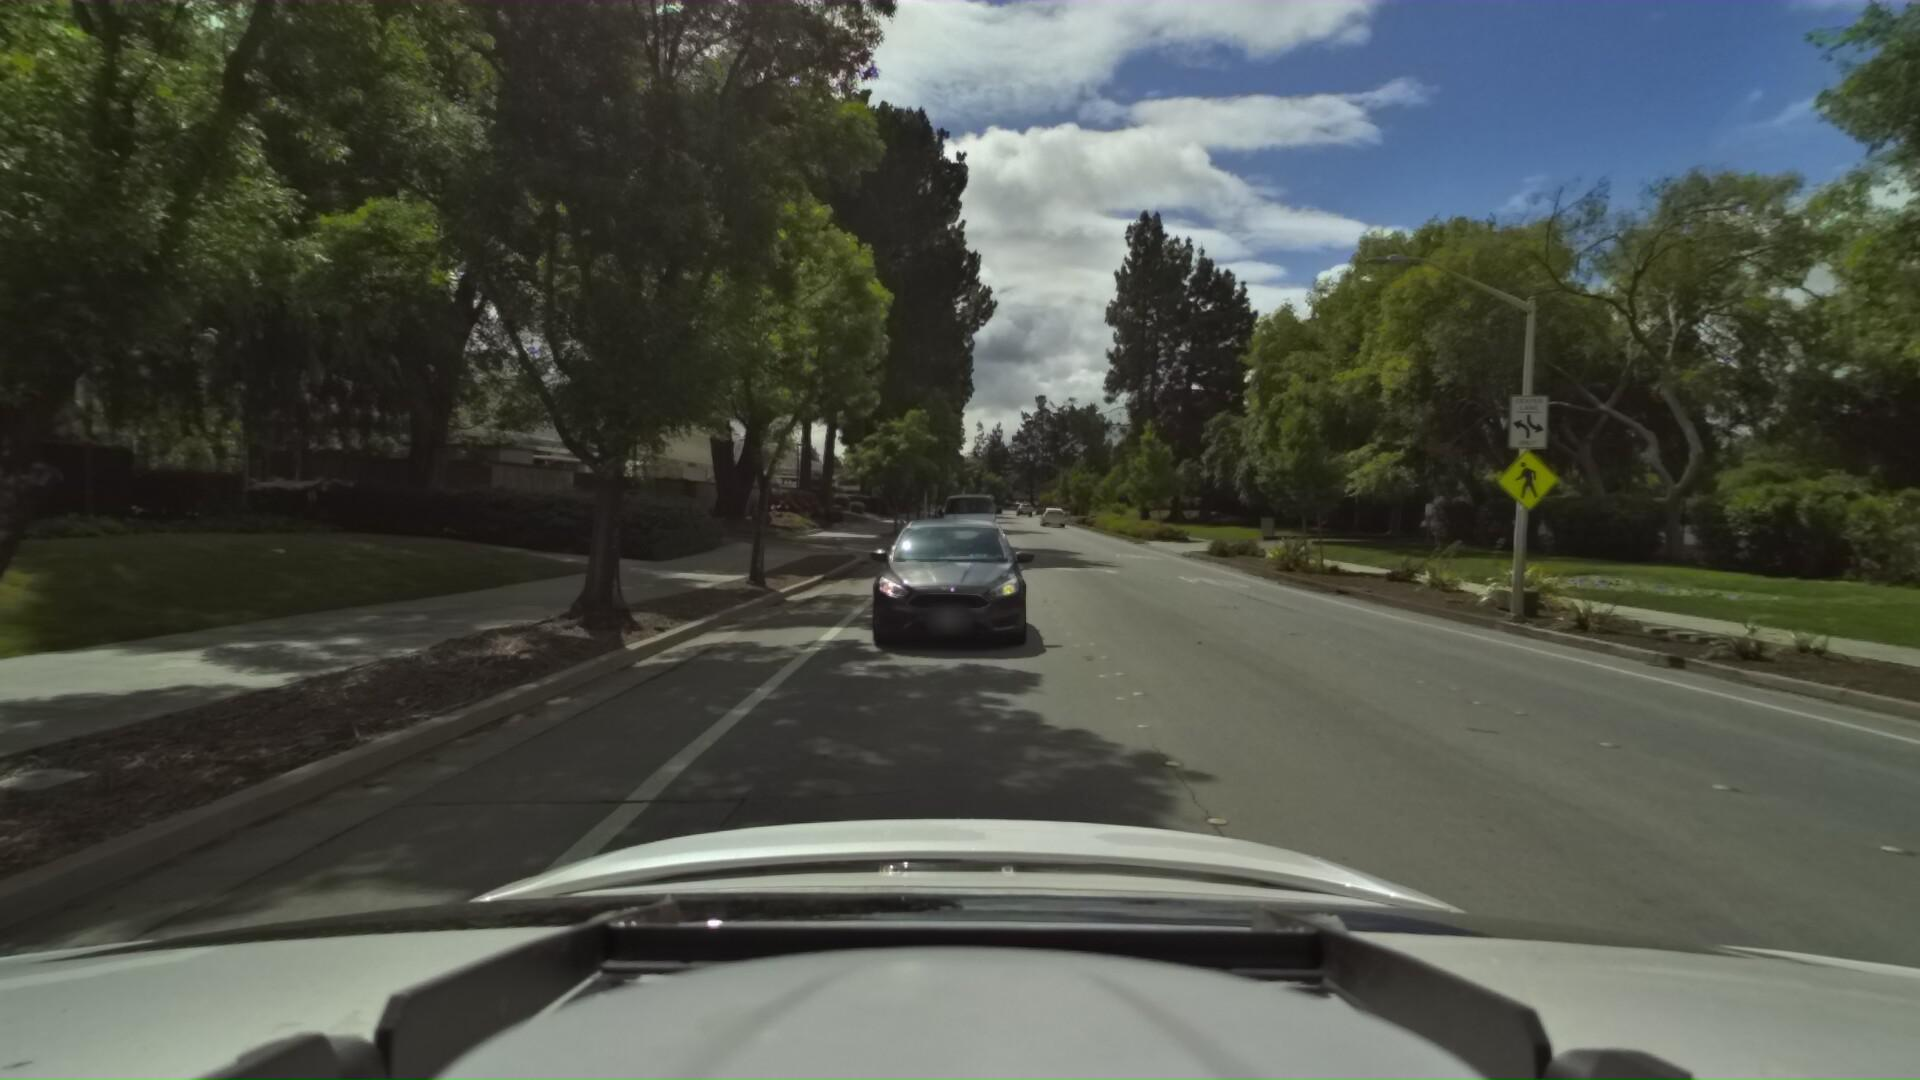car: (855, 506, 1031, 659), (935, 481, 1001, 553), (1039, 504, 1065, 525)
